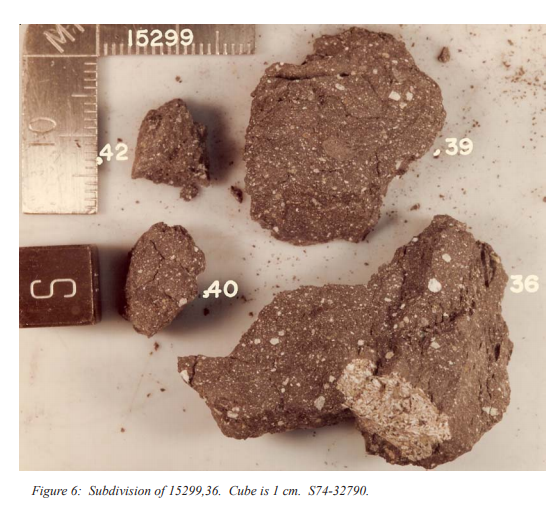Breccia: (165, 325, 511, 463), (253, 40, 444, 241), (270, 227, 503, 329), (115, 222, 208, 336), (126, 97, 207, 213)
